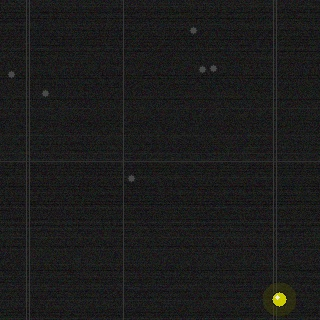yellow_warning: (270, 290, 288, 308)
